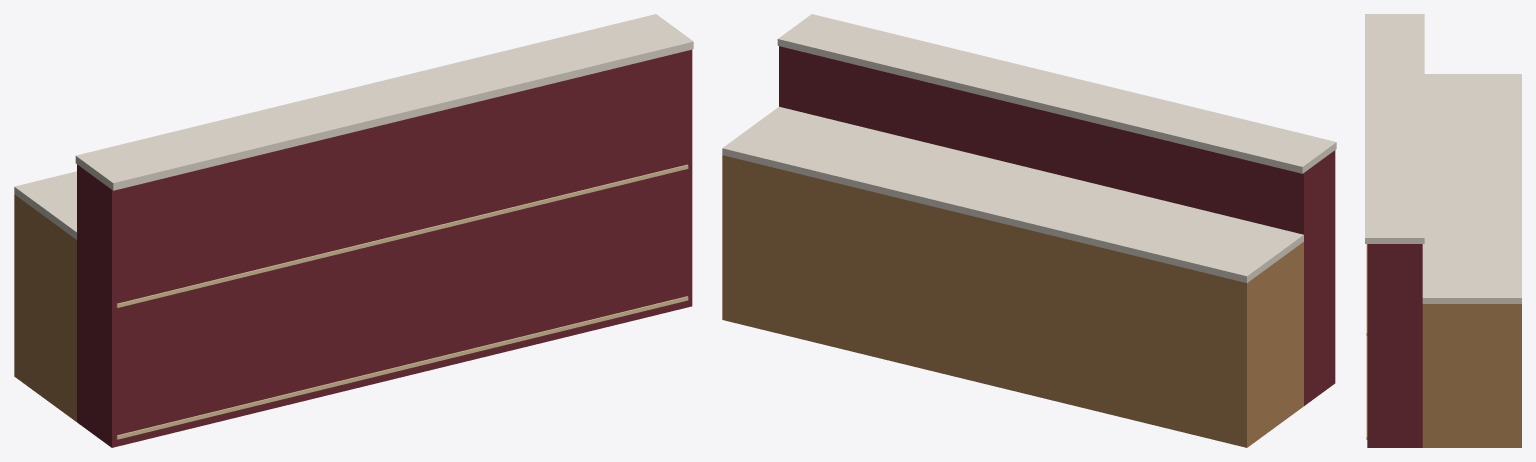
Rendered from balcao_recepcao.obj.
3 views of the same model, side by side, from view 1: azimuth 30°, elevation 25°; view 2: azimuth 150°, elevation 25°; view 3: azimuth 270°, elevation 25° (orthographic). The views are drawn at different scales.
Parts seen in each view (by area): view 1: balcao_recepcao; view 2: balcao_recepcao; view 3: balcao_recepcao.
Boxes of the visible parts, left/top/right/bottom form: balcao_recepcao: left=14, top=14, right=693, bottom=447; balcao_recepcao: left=722, top=14, right=1336, bottom=447; balcao_recepcao: left=1365, top=14, right=1521, bottom=447.
Size of the model in its own units: 2.4 by 1.05 by 0.71.
